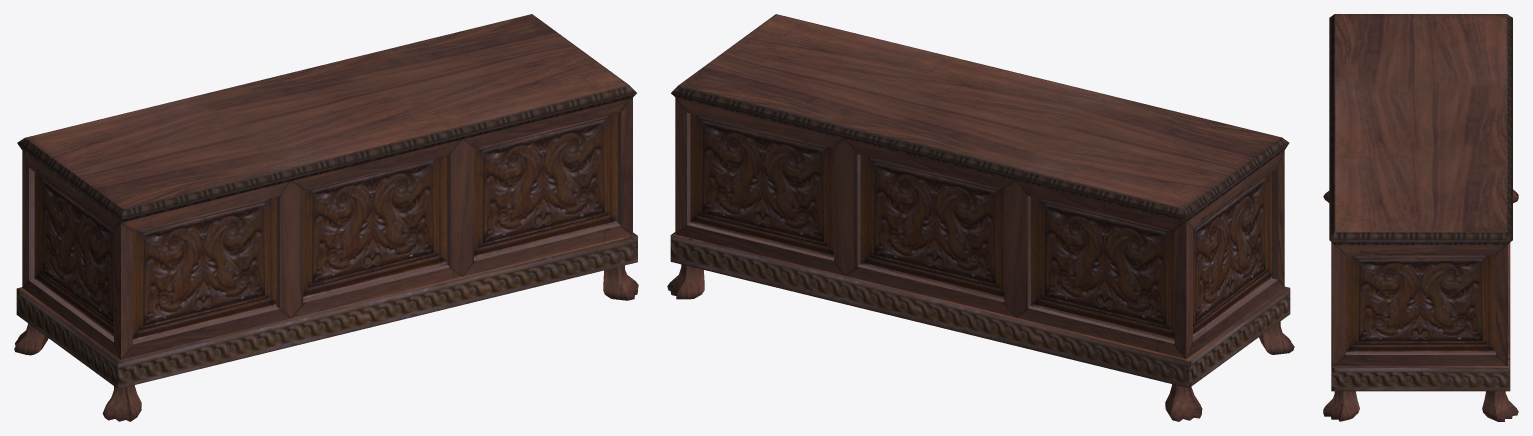
The picture shows the model from 3 angles, left to right: view 1: azimuth 30°, elevation 25°; view 2: azimuth 150°, elevation 25°; view 3: azimuth 270°, elevation 25°; orthographic projection. The views are drawn at different scales.
Parts seen in each view (by area): view 1: Box001, Box003_piedscoffre_0, Box002_piedscoffre_0, Box004_piedscoffre_0; view 2: Box001, Box004_piedscoffre_0, Box005_piedscoffre_0, Box003_piedscoffre_0; view 3: Box001, Box002_piedscoffre_0, Box005_piedscoffre_0.
Part boxes in pixels (x1=…): Box001: x1=16, y1=14, x2=637, y2=388; Box003_piedscoffre_0: x1=102, y1=385, x2=141, y2=421; Box002_piedscoffre_0: x1=603, y1=265, x2=638, y2=300; Box004_piedscoffre_0: x1=14, y1=323, x2=48, y2=355; Box001: x1=670, y1=14, x2=1290, y2=387; Box004_piedscoffre_0: x1=1165, y1=384, x2=1202, y2=421; Box005_piedscoffre_0: x1=667, y1=264, x2=704, y2=299; Box003_piedscoffre_0: x1=1259, y1=321, x2=1294, y2=354; Box001: x1=1329, y1=14, x2=1512, y2=391; Box002_piedscoffre_0: x1=1323, y1=391, x2=1359, y2=421; Box005_piedscoffre_0: x1=1482, y1=391, x2=1518, y2=421.
Bounding box in the file's own units: 94.69 × 35.46 × 34.06.
2 materials, 2 textured.
